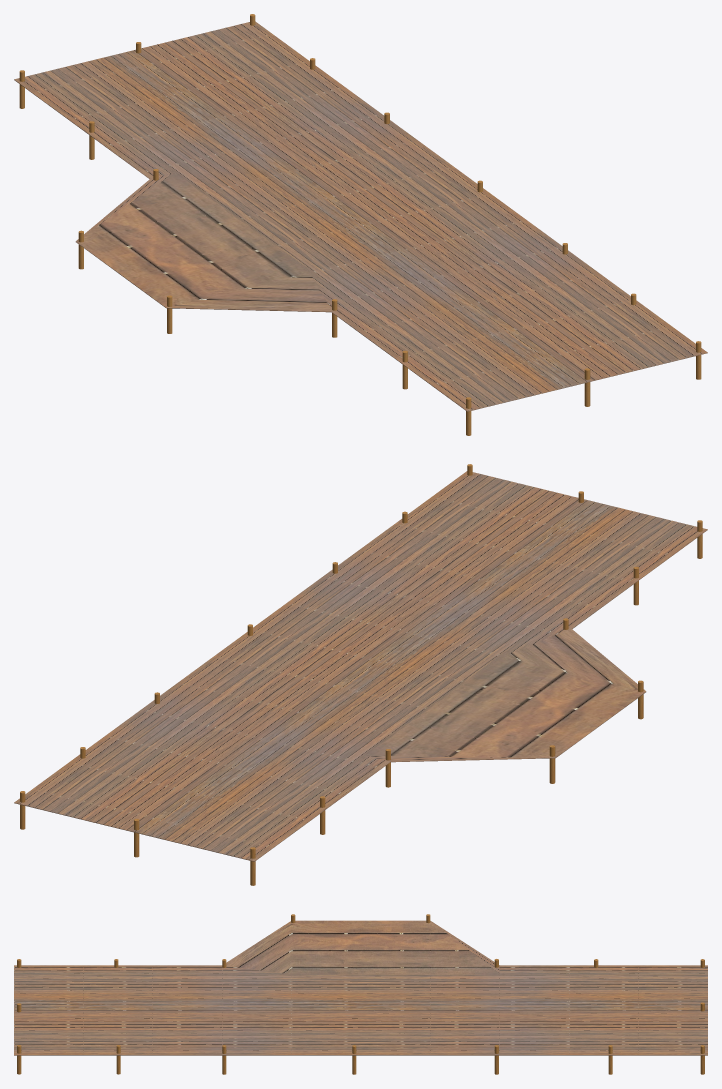
The model's file is deckObj.fbx.
3 renders of one model, top to bottom at view 1: azimuth 30°, elevation 25°; view 2: azimuth 150°, elevation 25°; view 3: azimuth 270°, elevation 25°, orthographic. The views are drawn at different scales.
Visible parts, largest first — view 1: deckObj; view 2: deckObj; view 3: deckObj.
Boxes of the visible parts, x1=… form: deckObj: x1=14, y1=14, x2=707, y2=435; deckObj: x1=14, y1=464, x2=707, y2=885; deckObj: x1=14, y1=914, x2=707, y2=1074.
Bounding box in the file's own units: 153 × 14.79 × 334.
Materials: 15 (15 with a texture image).
